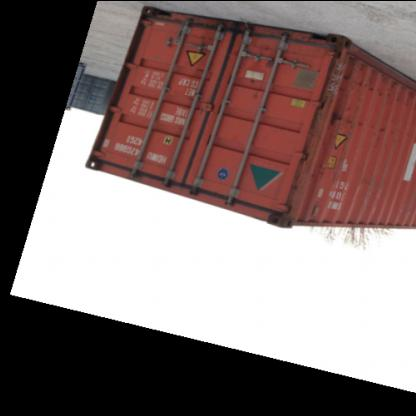Damage: (284, 127, 328, 219), (245, 78, 268, 105), (326, 112, 350, 134), (352, 109, 366, 135), (334, 76, 360, 90), (361, 82, 384, 96), (374, 125, 388, 137)
